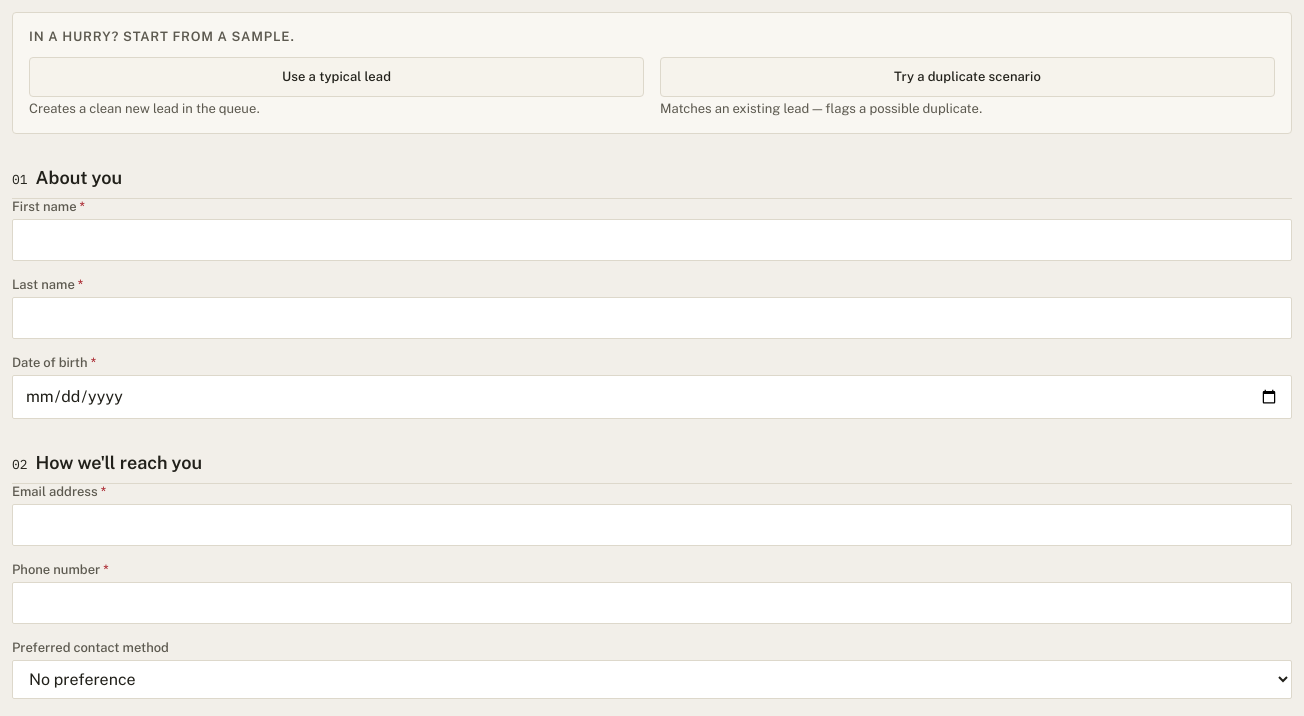
Test: ShopperIntakeForm prefill › fills the form from the duplicate scenario (the Jordan Rivera bait)
Click the button with id "shopper-intake-prefill-duplicate-button": {"x": 968, "y": 77} [660, 57, 1275, 97]
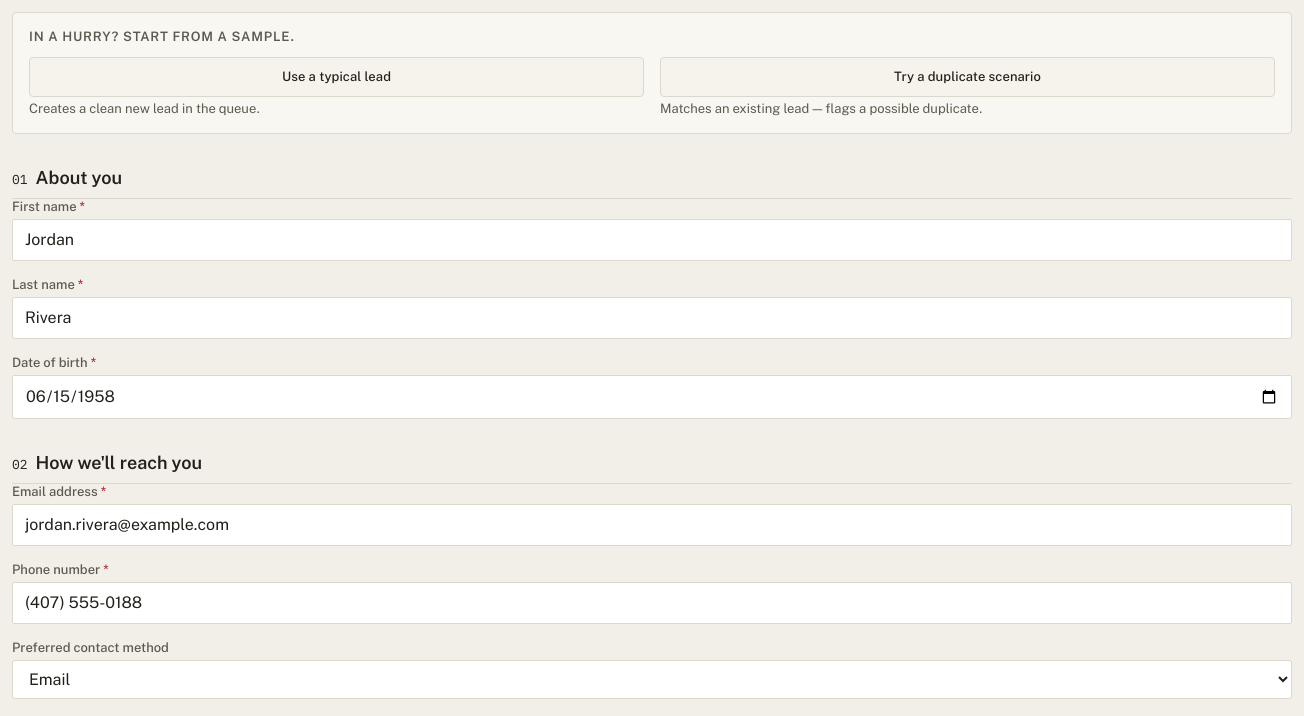
Expected: the field with id "shopper-intake-email" holds "jordan.rivera@example.com", [12, 504, 1292, 546]
Expected: the field with id "shopper-intake-phone" holds "(407) 555-0188", [12, 582, 1292, 624]
